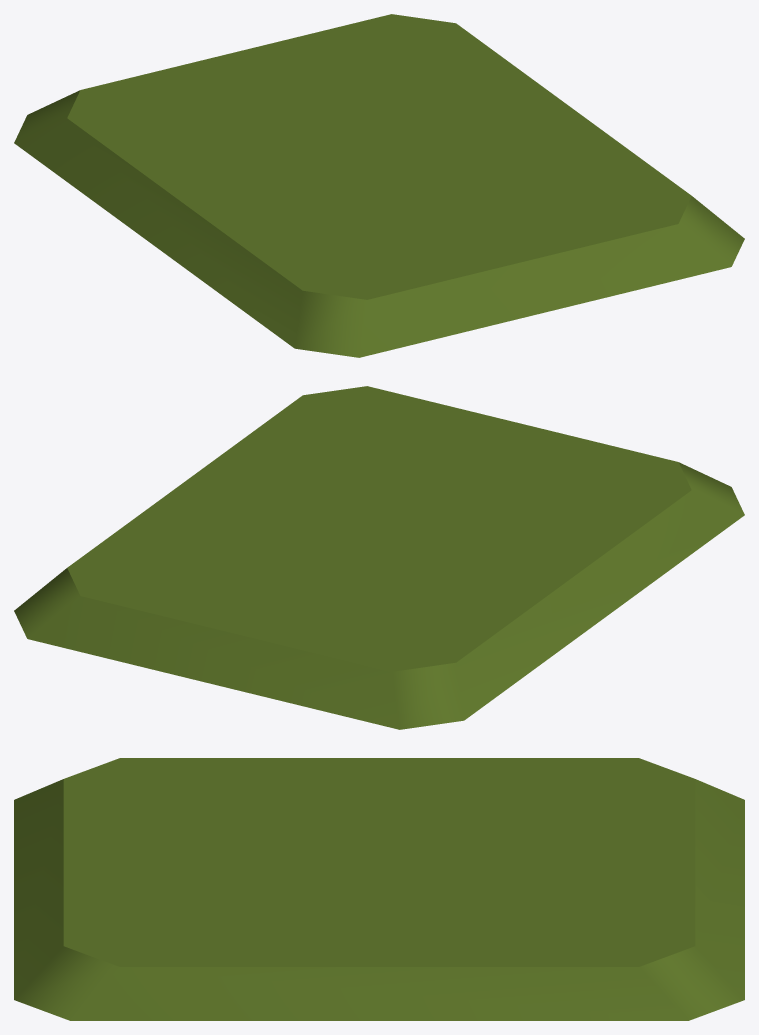
Rendered from NonWalkableLand-Level2.fbx.
3 views of the same model, one above another, from view 1: azimuth 30°, elevation 25°; view 2: azimuth 150°, elevation 25°; view 3: azimuth 270°, elevation 25° (orthographic). The views are drawn at different scales.
Parts seen in each view (by area): view 1: NoWalkableLand; view 2: NoWalkableLand; view 3: NoWalkableLand.
Part boxes in pixels (x1=…): NoWalkableLand: x1=14, y1=14, x2=744, y2=357; NoWalkableLand: x1=14, y1=386, x2=744, y2=729; NoWalkableLand: x1=14, y1=758, x2=744, y2=1020.
Bounding box in the file's own units: 48.8 × 3.52 × 62.31.
